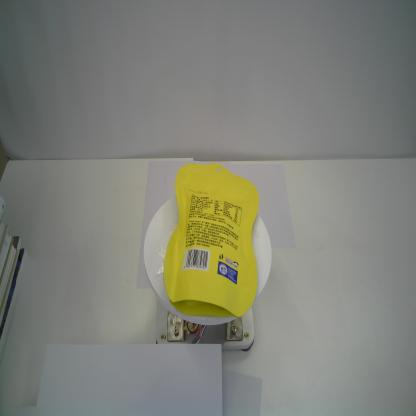Dried Fruit: (161, 160, 260, 323)
